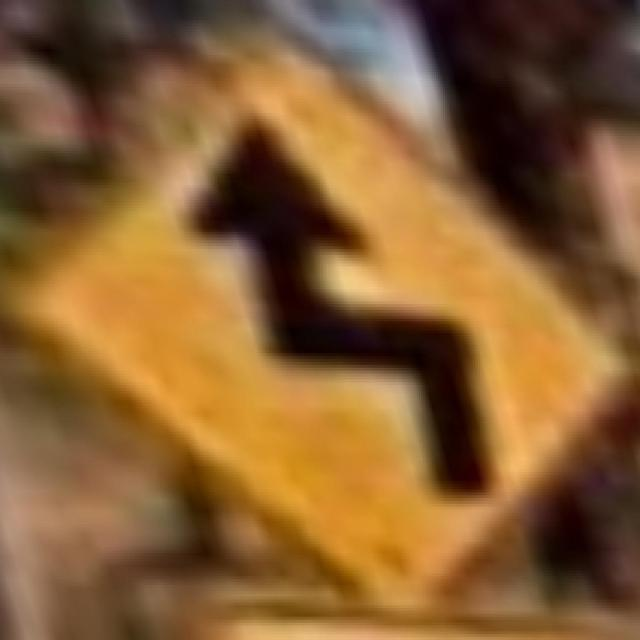Tikungan Ganda Pertama Ke Kiri: (13, 38, 618, 608)
